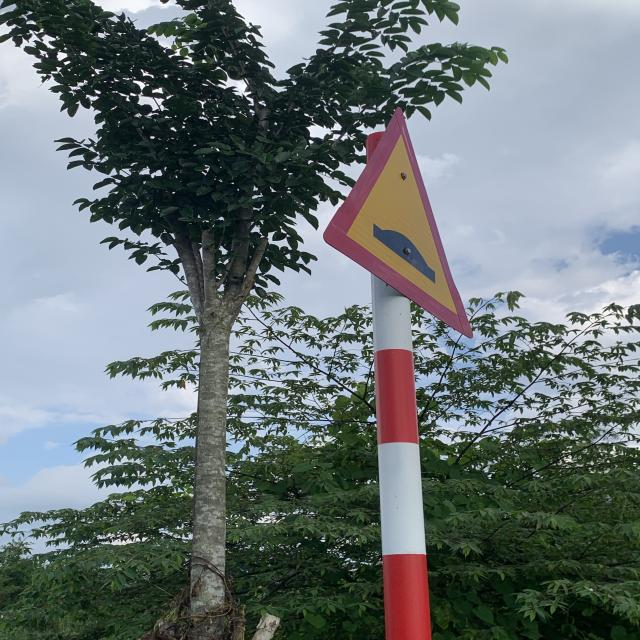Duong_Cong_Ben_Phai: (322, 104, 479, 338)
